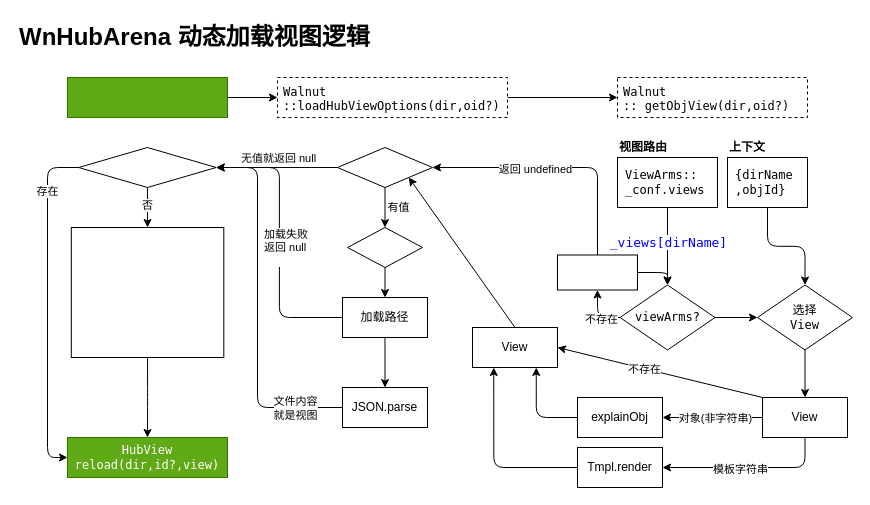
This 870x505 diagram has some shape labels left out. The centre of each missing label's shape, as x and y in pixels:
<WnHubArena> use-hub-arena-reload: [147,97]
_views[*]: [597,272]
view?: [384,167]
viewOptions? HubViewOptions: [147,167]
Walnut.getObjPath - 适配对象抽象路径 createObjViewOptions 1. 普通文件 2. 视图文件 3.数据集 4.普通目录: [147,292]
字符串?: [384,247]
